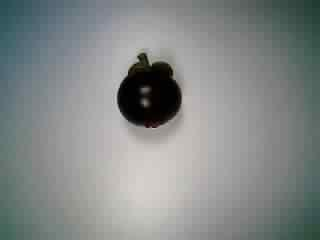mangosteen: (109, 50, 184, 134)
